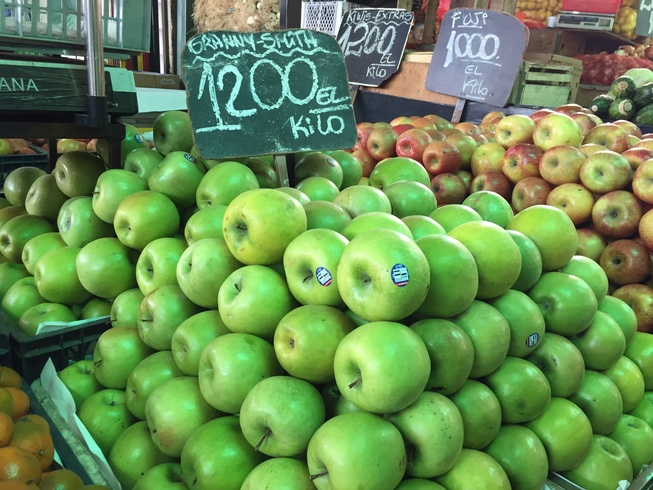precio: (178, 27, 368, 166), (435, 4, 526, 109), (335, 3, 417, 90)
